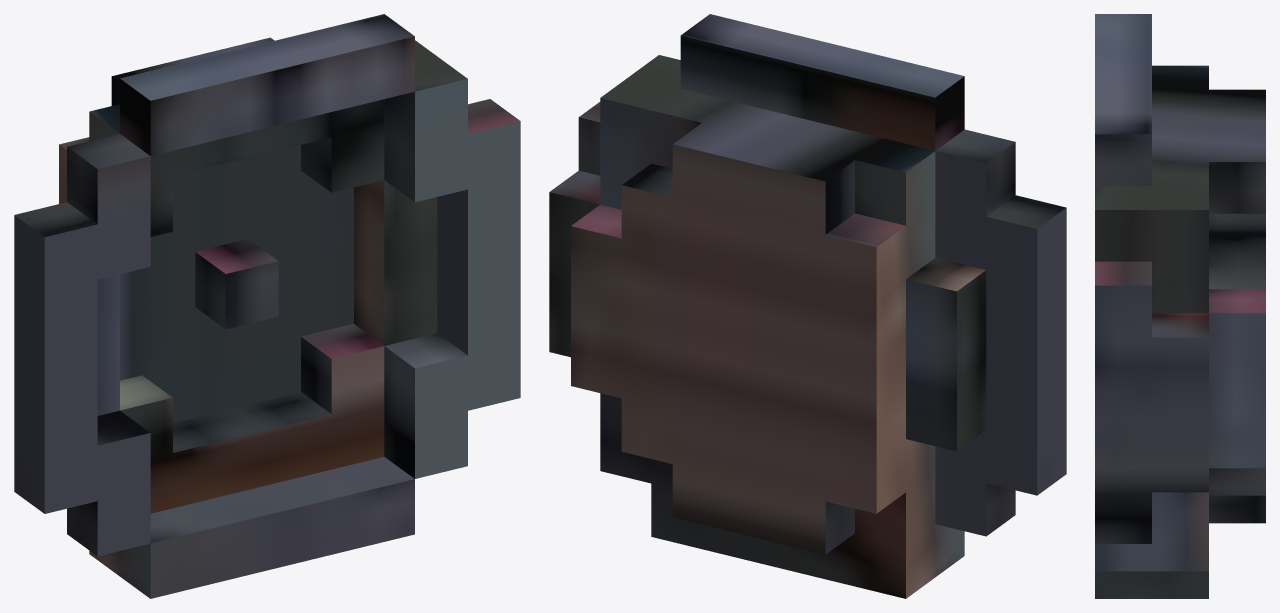
File: SateliteDish.glb
3 views of the same model, side by side, from view 1: azimuth 30°, elevation 25°; view 2: azimuth 150°, elevation 25°; view 3: azimuth 270°, elevation 25° (orthographic). The views are drawn at different scales.
Parts seen in each view (by area): view 1: SateliteDish; view 2: SateliteDish; view 3: SateliteDish.
Part boxes in pixels (box(x1,y1,x2,y2)): SateliteDish: box(14, 14, 520, 598); SateliteDish: box(549, 14, 1066, 598); SateliteDish: box(1095, 14, 1265, 598).
Size of the model in its own units: 0.9 by 0.9 by 0.3001.
1 material, 1 textured.
